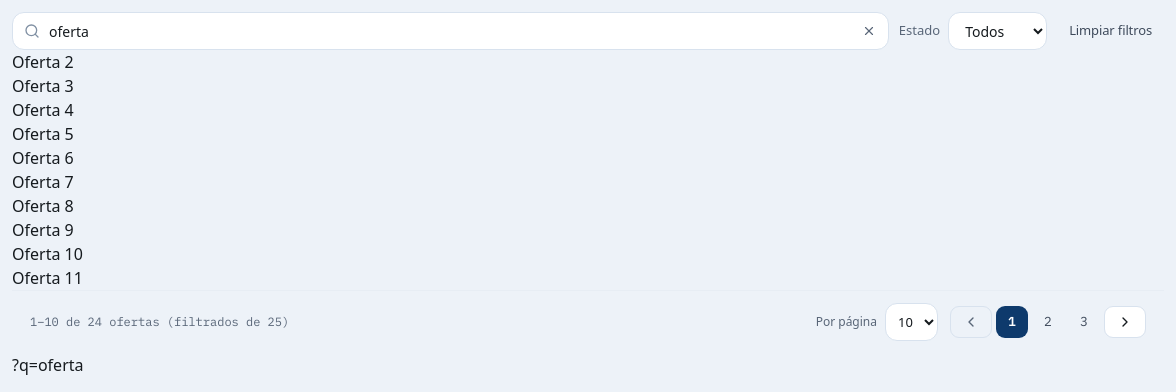
ListToolbar + Pagination + useListing › clears the search with its own button
This screenshot has width=1176, height=392.
Click the button named "Borrar búsqueda": (869, 31) [857,19,881,43]
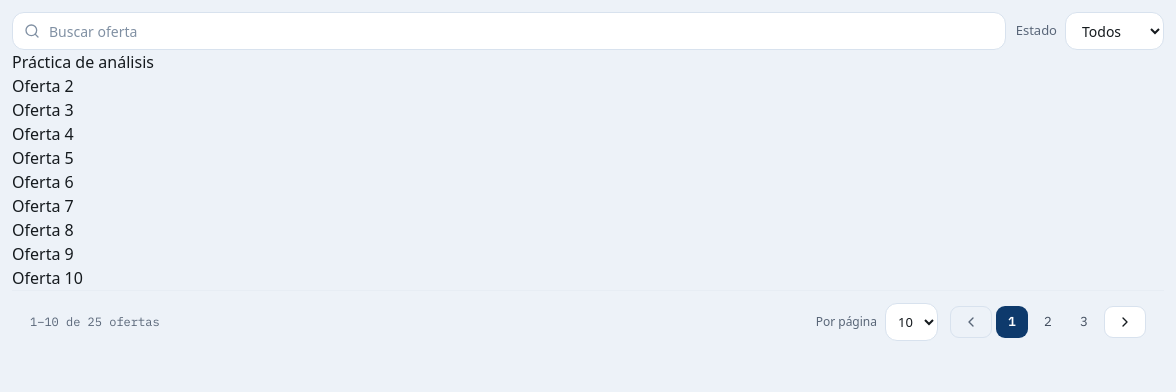
Now the search field is empty, box [12,12,1006,50]
